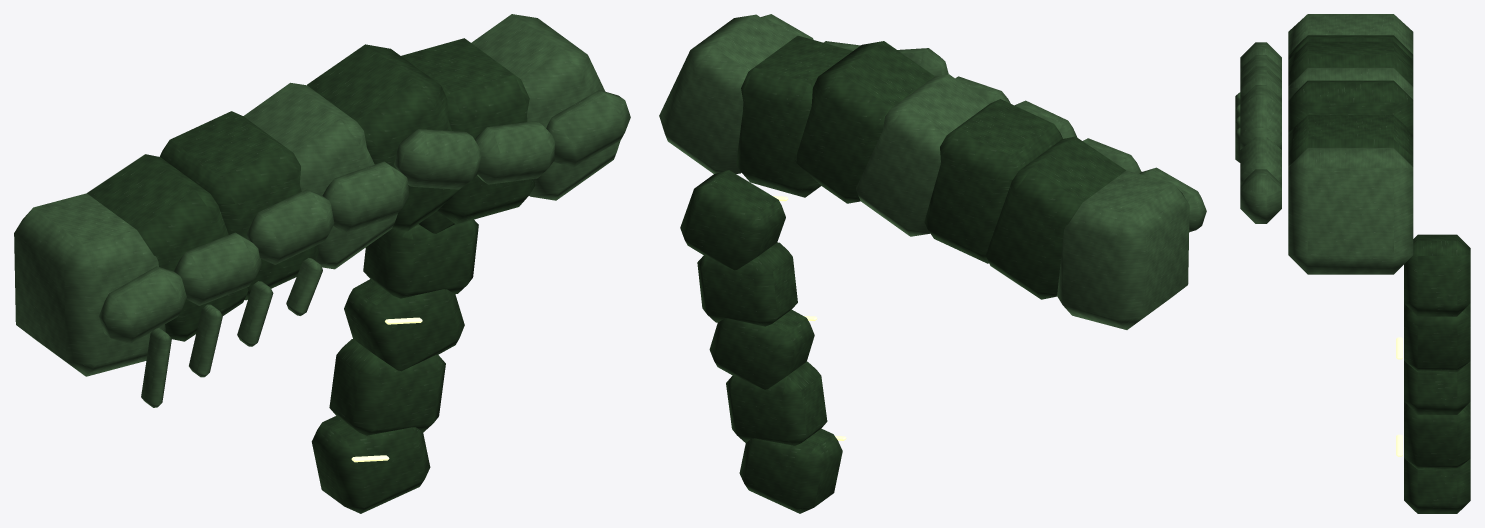
File: jungle_cave_mouth.glb
The picture shows the model from 3 angles, left to right: view 1: azimuth 30°, elevation 25°; view 2: azimuth 150°, elevation 25°; view 3: azimuth 270°, elevation 25°; orthographic projection. The views are drawn at different scales.
Parts seen in each view (by area): view 1: jungle_cave_mouth - machine_jungle trim, jungle_cave_mouth - machine_jungle panels; view 2: jungle_cave_mouth - machine_jungle panels, jungle_cave_mouth - machine_jungle trim; view 3: jungle_cave_mouth - machine_jungle panels, jungle_cave_mouth - machine_jungle trim, jungle_cave_mouth - machine_jungle accents.
Boxes of the visible parts, x1,y1,x2,y2 form: jungle_cave_mouth - machine_jungle trim: (14, 14, 630, 407); jungle_cave_mouth - machine_jungle panels: (87, 38, 535, 513); jungle_cave_mouth - machine_jungle panels: (680, 35, 1125, 513); jungle_cave_mouth - machine_jungle trim: (659, 14, 1206, 329); jungle_cave_mouth - machine_jungle panels: (1288, 35, 1470, 513); jungle_cave_mouth - machine_jungle trim: (1235, 14, 1413, 274); jungle_cave_mouth - machine_jungle accents: (1396, 337, 1402, 456).
Size of the model in its own units: 9.4 by 7.74 by 3.99.
Materials: 3 (2 with a texture image).
